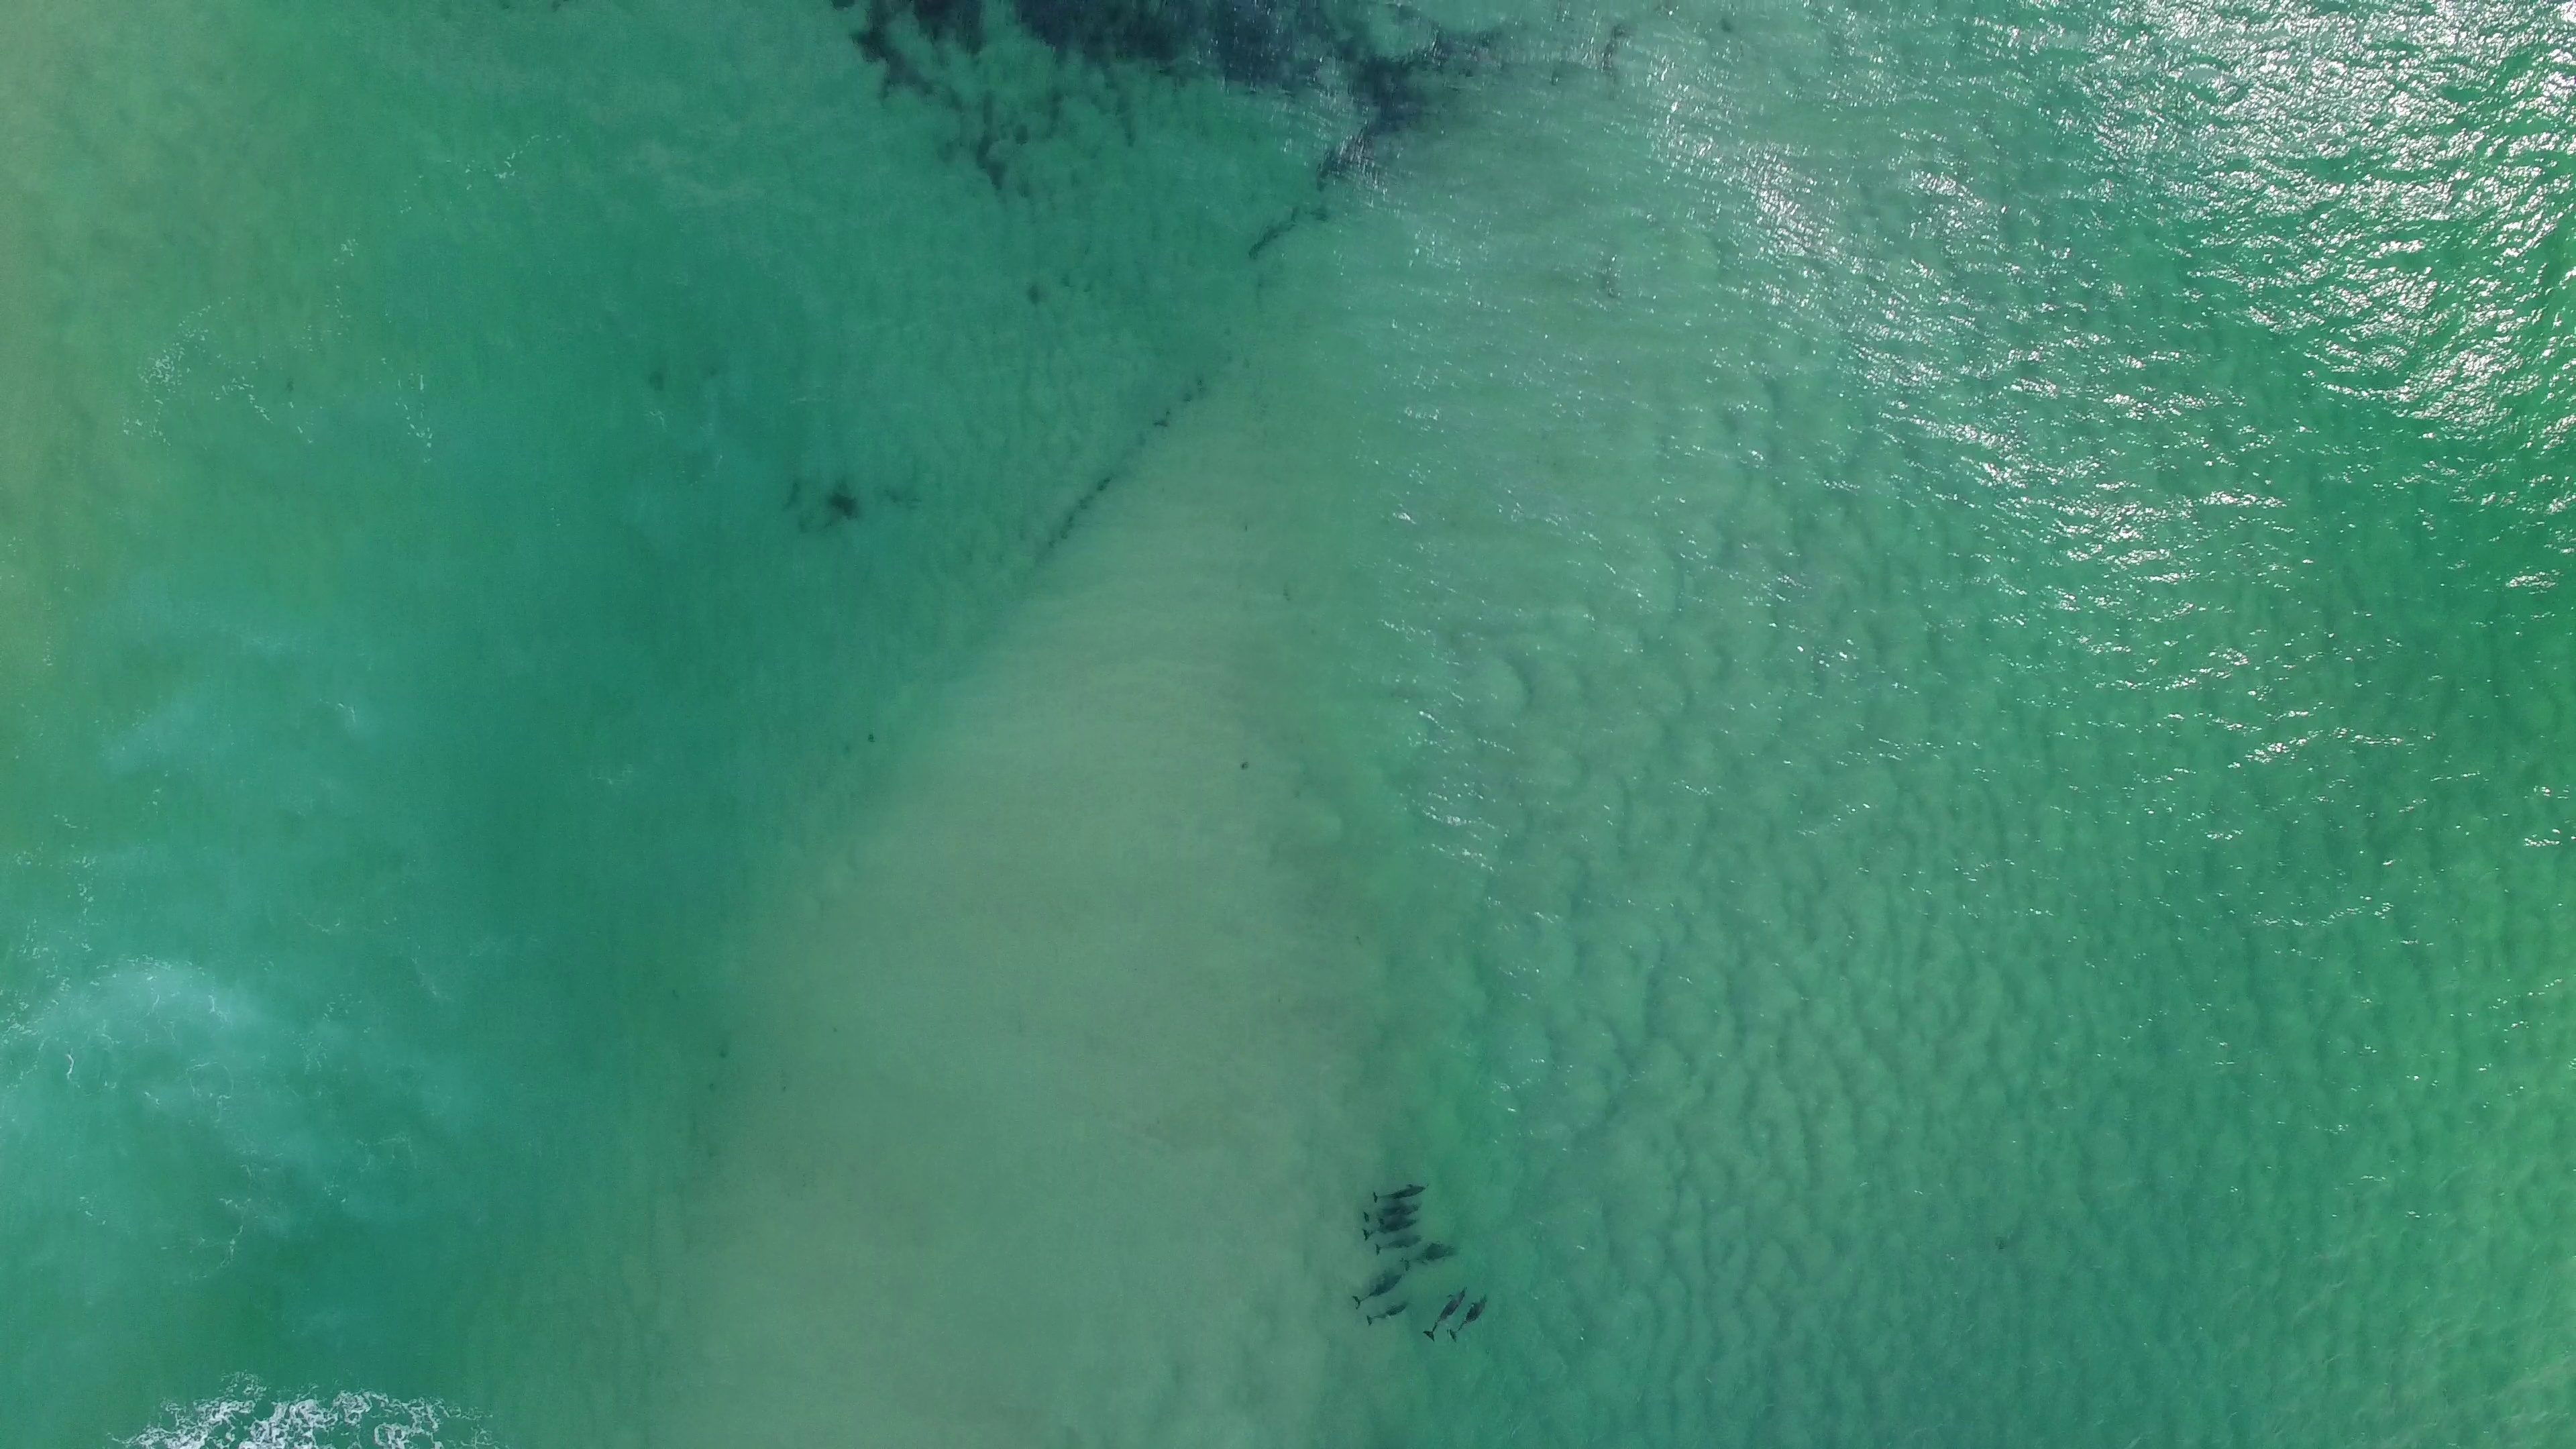dolphin: (1424, 1283, 1472, 1346), (1348, 1263, 1410, 1311), (1445, 1292, 1493, 1346), (1398, 1246, 1460, 1272), (1357, 1217, 1422, 1240), (1361, 1300, 1412, 1329), (1359, 1201, 1424, 1223), (1369, 1182, 1428, 1203), (1371, 1235, 1426, 1254)
